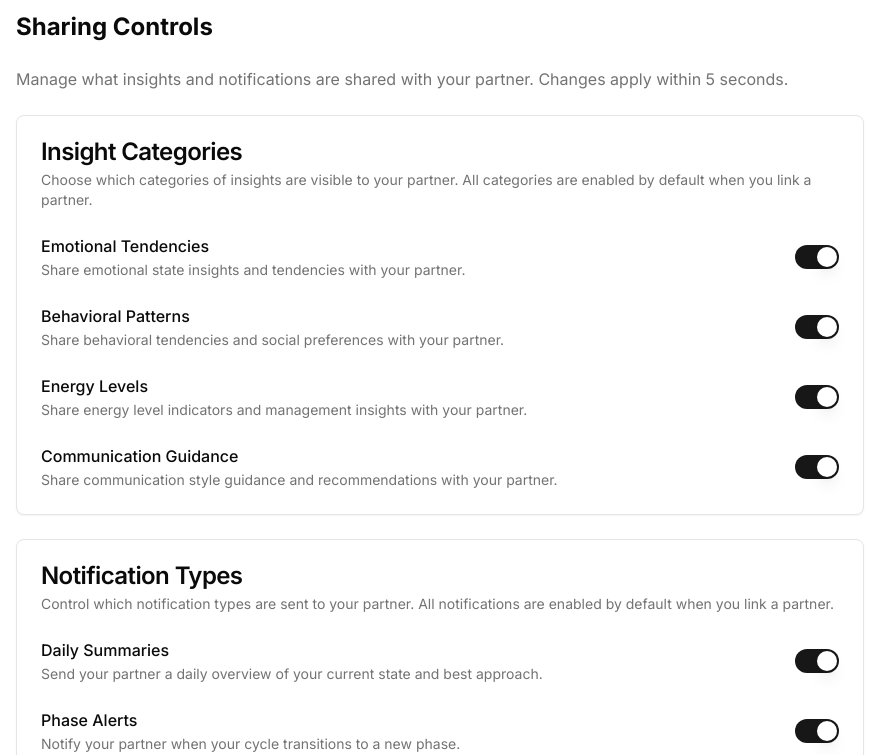
Test: SharingControlsPage › reverts notification toggle and shows error on API failure
The image size is (881, 755).
Check: the heading "Notification Types" is shown, box [41,561,242,590]
Click the switch named "toggle daily summaries".
click(817, 661)  # box [795,649,839,673]
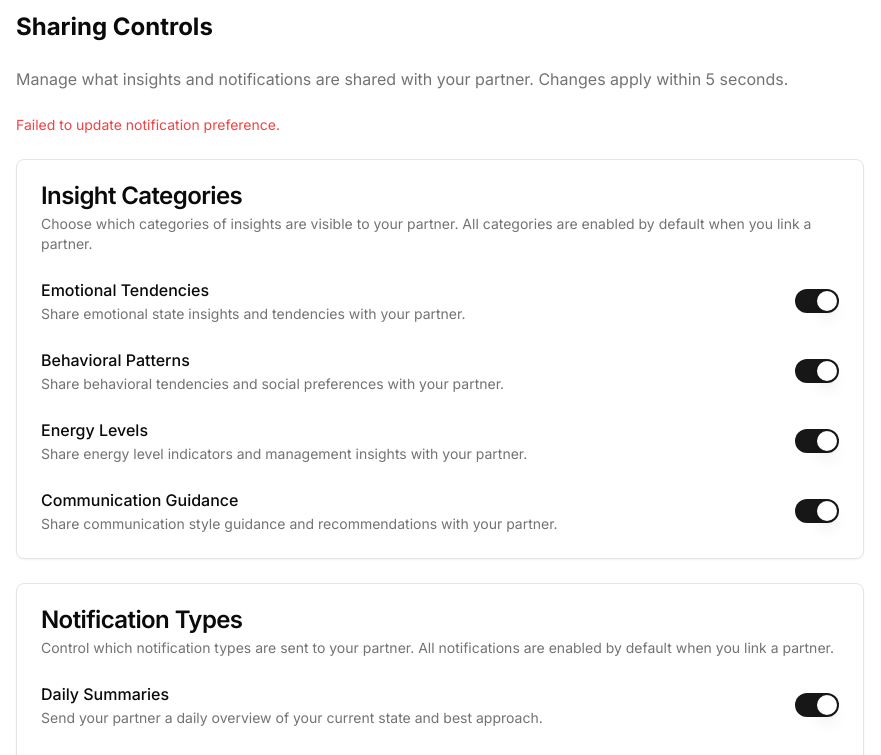
Check: the message with test id "sharing-error" reads "Failed to update notification preference.", box [16,116,280,133]
